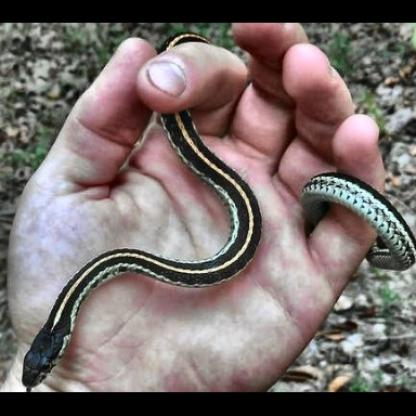Snake: (6, 240, 150, 388)
